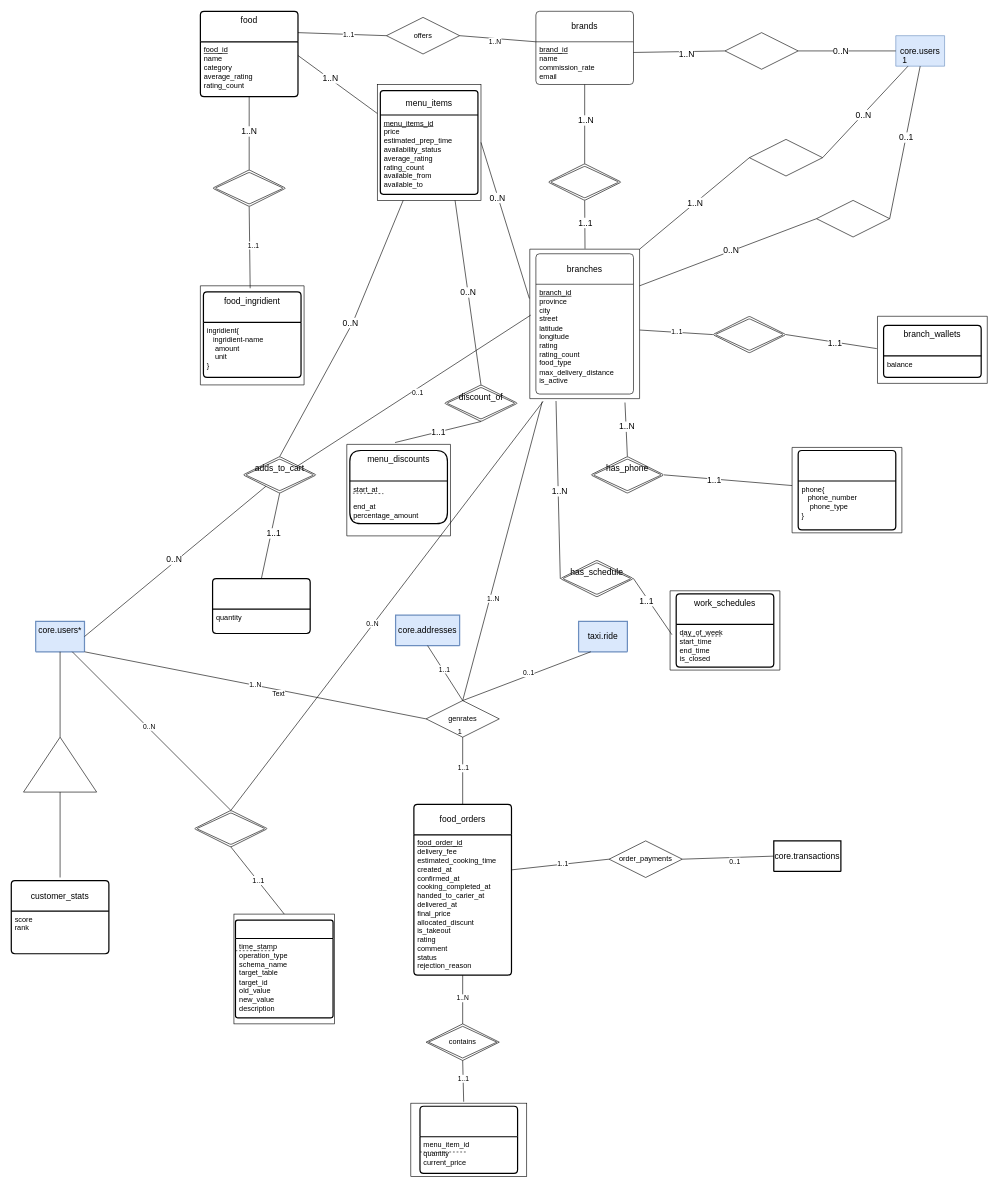
Image size: 998x1187. Some labels were removed from this diagram. The box of each missing label's shape, as (x1, y1, x2, y2) in pixels:
branch_owners: (749, 139, 823, 176)
brand_owners: (724, 32, 798, 69)
business_phones: (797, 450, 896, 530)
card_items: (212, 578, 310, 634)
food_logs: (235, 919, 333, 1018)
has_branch: (547, 163, 621, 200)
has_ingrident: (212, 169, 286, 206)
has_wallet: (712, 316, 786, 353)
ISA: (23, 737, 97, 792)
order_items: (419, 1105, 518, 1174)
performs_action: (194, 810, 267, 847)
resturaunt_staf: (816, 200, 890, 237)
